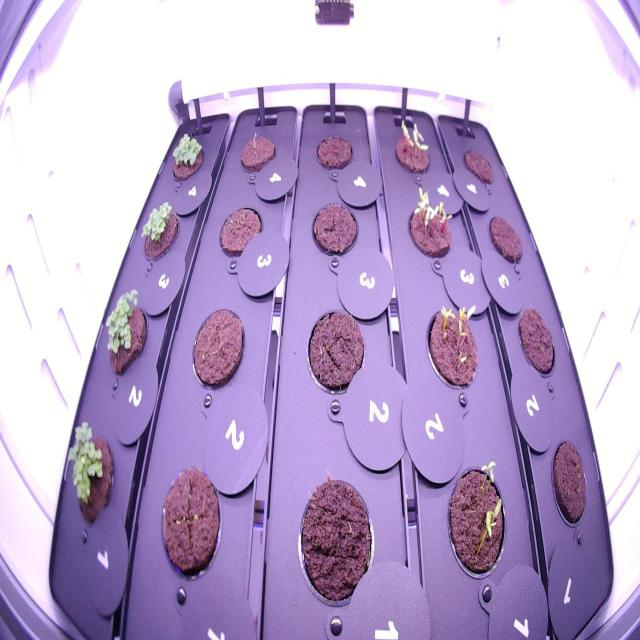germination: (438, 447, 511, 597), (418, 291, 486, 401), (64, 415, 117, 543), (101, 282, 153, 388), (398, 181, 459, 266), (385, 114, 438, 185), (136, 191, 182, 268), (166, 127, 210, 188)
pod: (294, 465, 382, 614), (152, 452, 227, 594), (302, 302, 366, 401), (185, 303, 250, 399), (546, 432, 591, 534), (512, 297, 560, 385), (212, 197, 267, 272), (305, 194, 361, 266), (485, 202, 527, 272), (310, 128, 356, 180), (458, 138, 500, 194), (236, 124, 279, 177)
